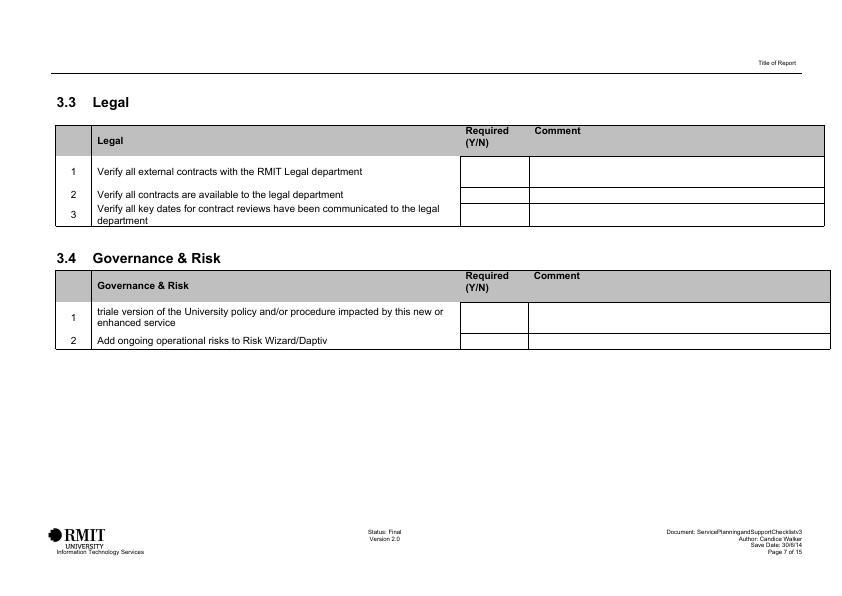table: (53, 119, 830, 234), (52, 269, 837, 353)
text: (666, 526, 807, 558), (56, 251, 226, 265), (53, 93, 135, 111), (363, 525, 409, 546)
